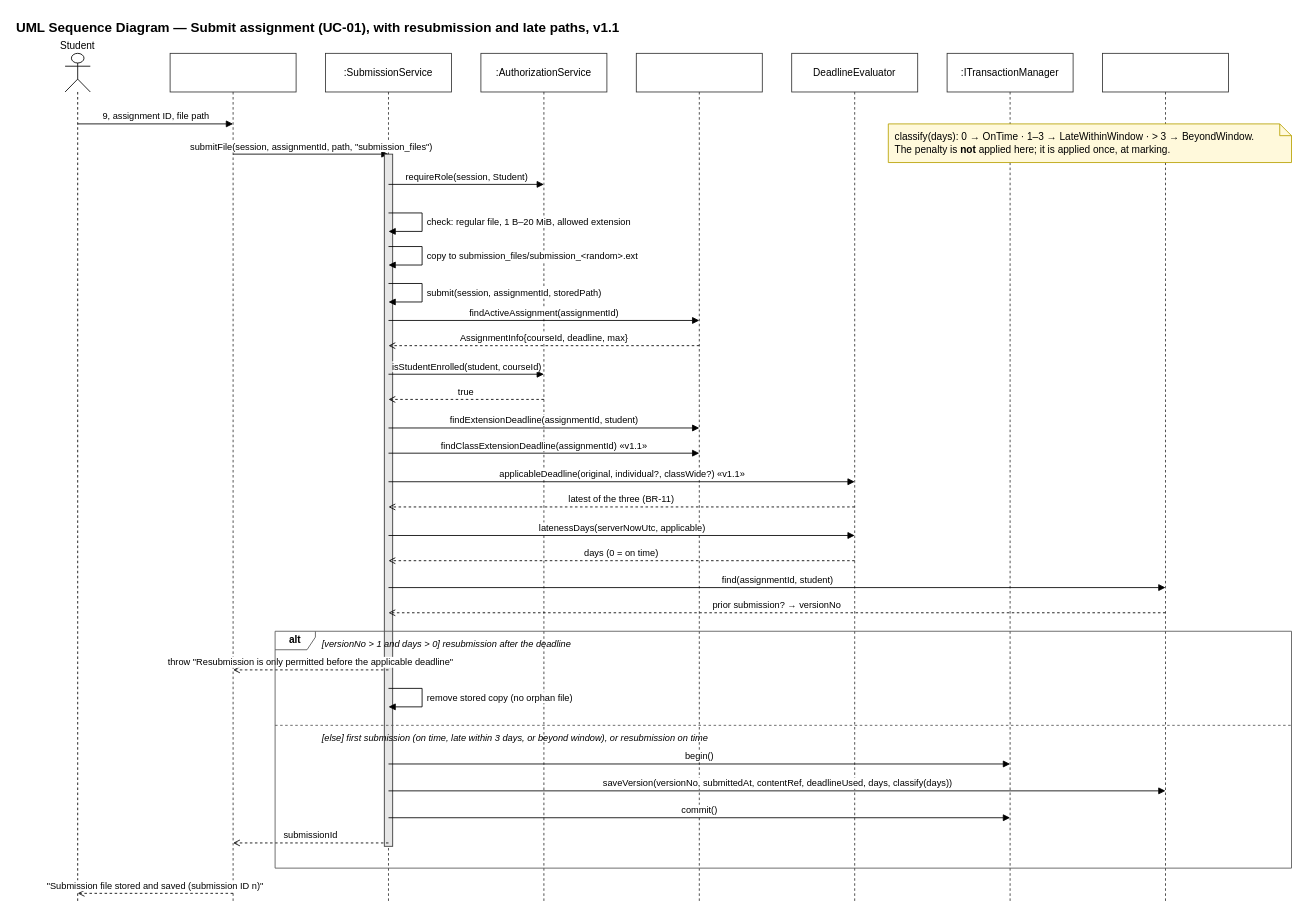
Image size: 1307x916. Some labels were removed from this diagram. Here are the shapes that lost their labels. From the top down, the box of each, then its label:
(169, 52, 296, 902): :Console UI
(635, 52, 762, 902): :ICourseRepository
(1102, 52, 1228, 902): :ISubmissionRepository
